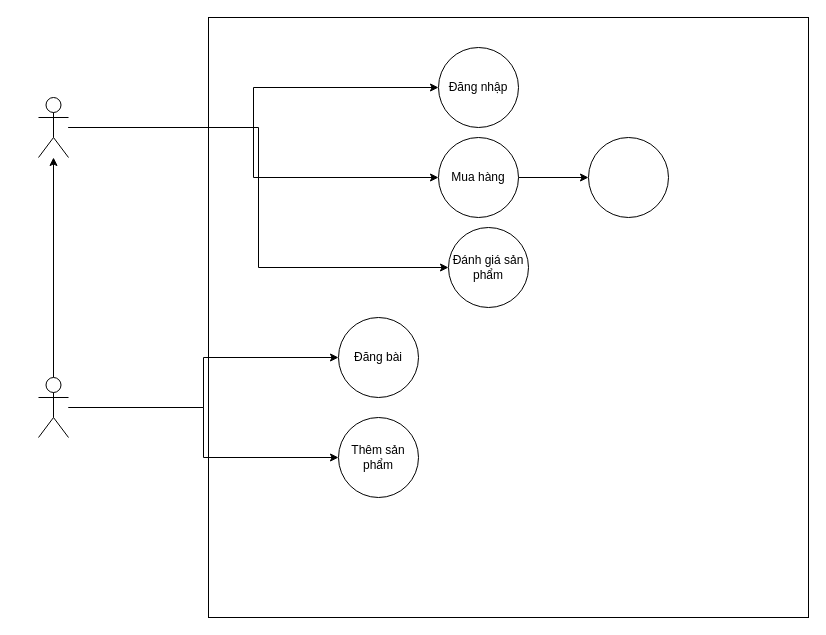
This 826x635 diagram has some shape labels left out. The box of each missing label's shape, as (x1, y1, x2, y2) in pixels:
Cộng tác viên: (38, 376, 68, 438)
Người dùng: (38, 96, 68, 158)
Thanh toán: (588, 136, 668, 218)
